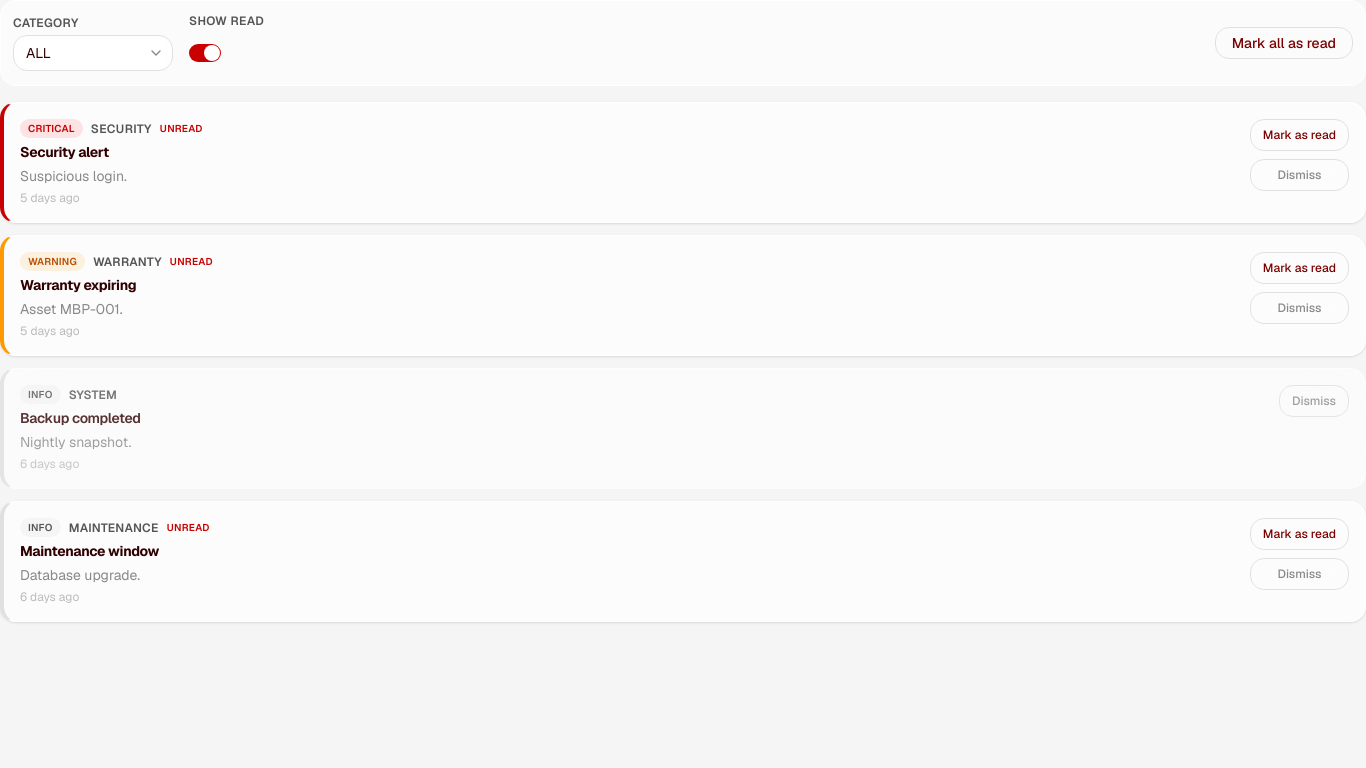
Test: NotificationList › removes a notification from the list when dismiss is clicked
Click the button "Dismiss" in the row of "Suspicious login." at (1299, 175), box x1=1250 y1=159 x2=1349 y2=191
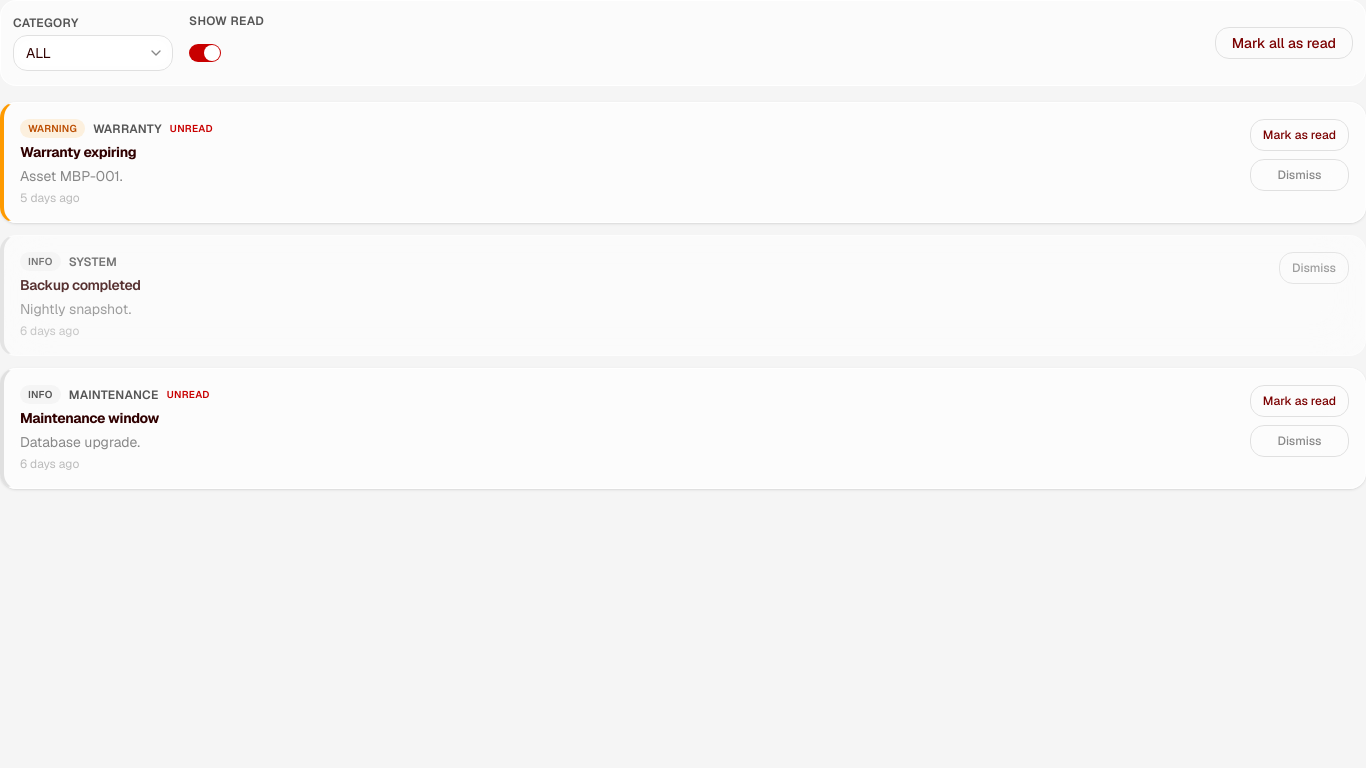
Check: the heading "Warranty expiring" is shown, box x1=20 y1=143 x2=136 y2=161
Check: the heading "Security alert" is gone
